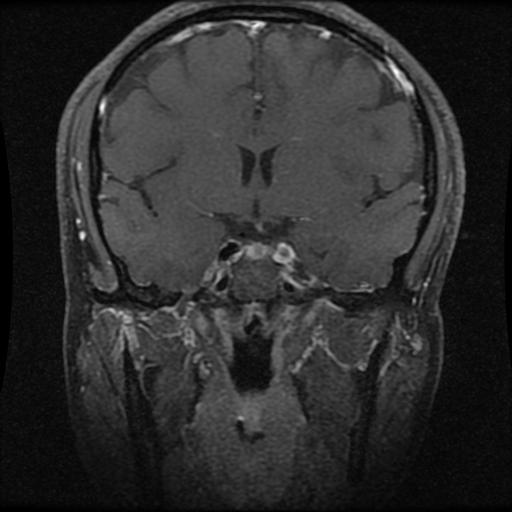Pituirity_tumour: (240, 243, 278, 258)
